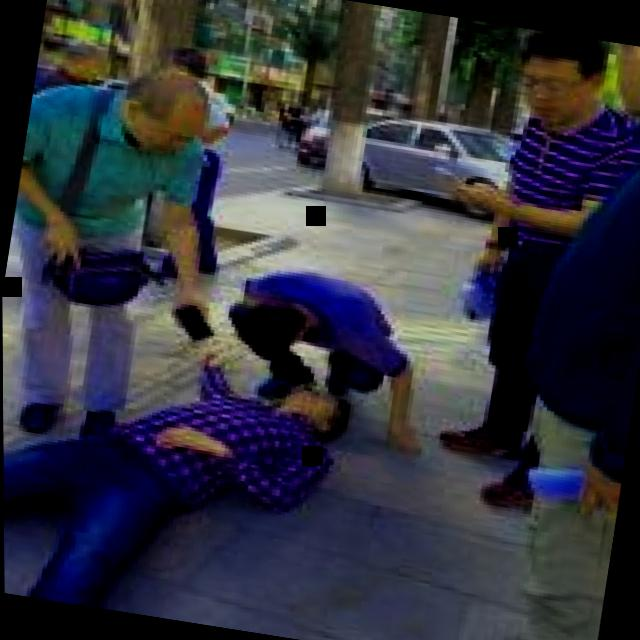Fall-Detected: (2, 303, 375, 640)
